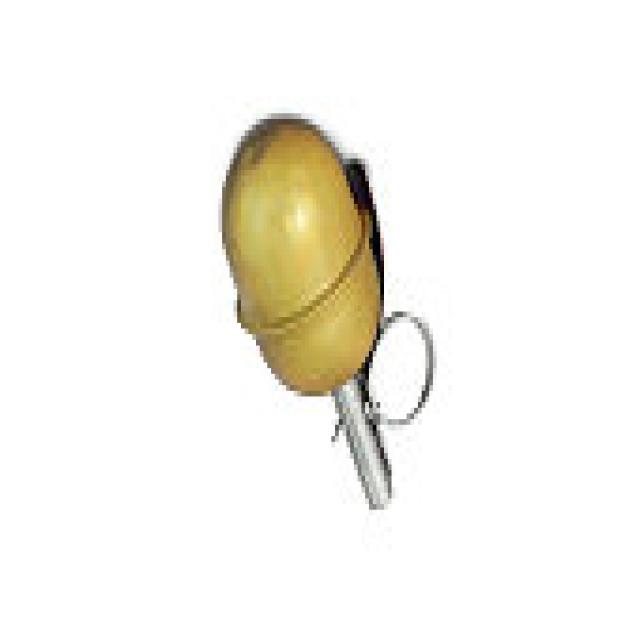grenade: (225, 112, 440, 517)
